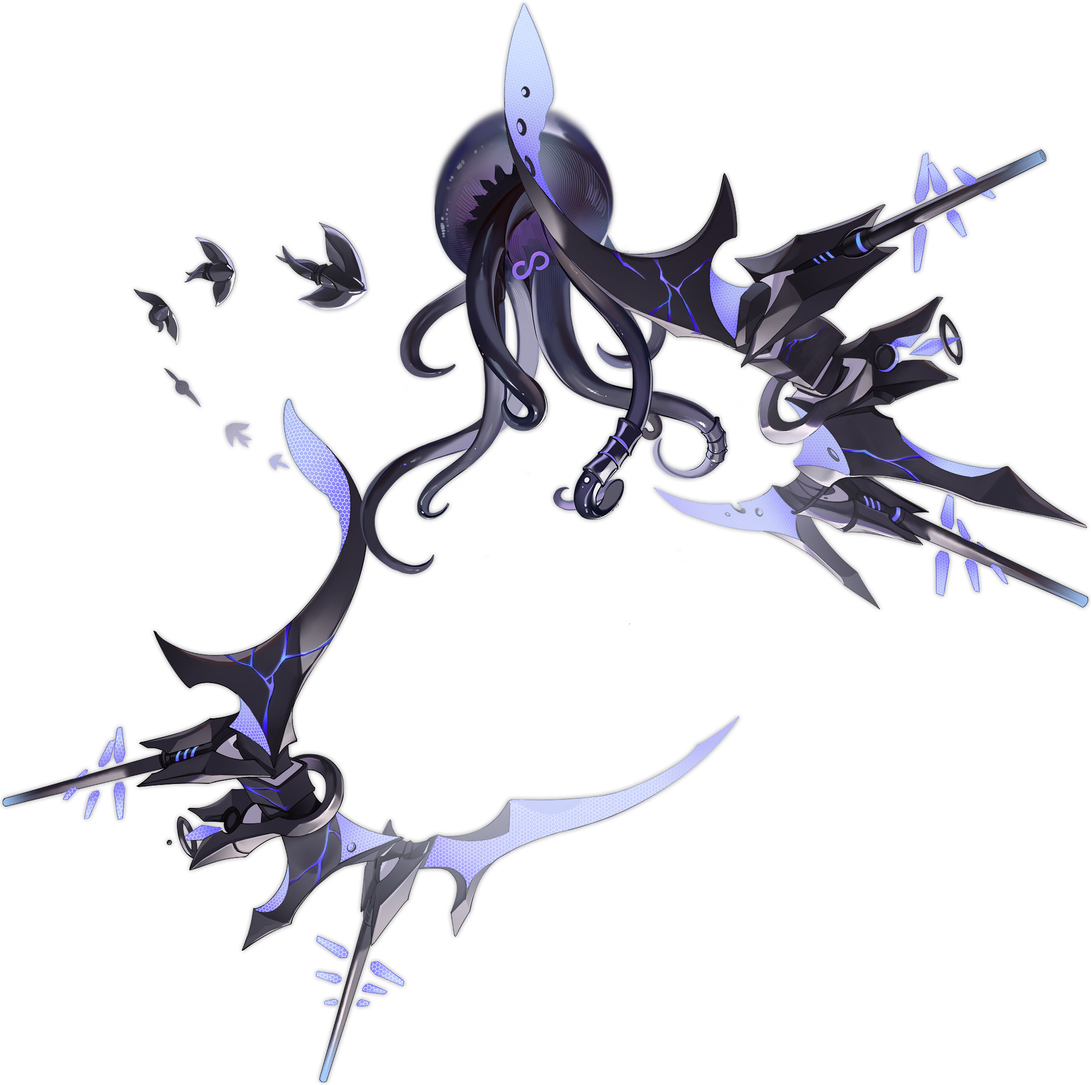person: (18, 16, 1088, 1076)
